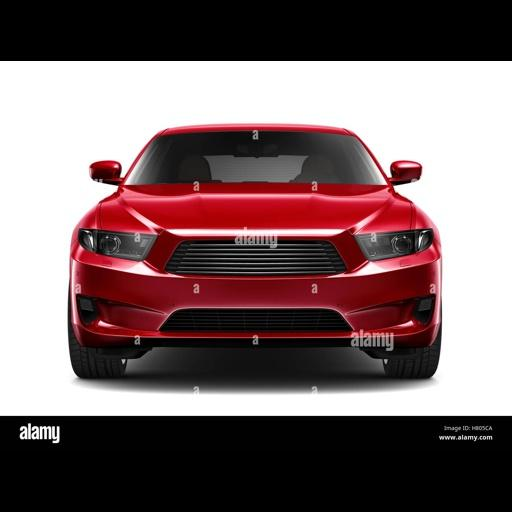sedan: (69, 124, 440, 377)
